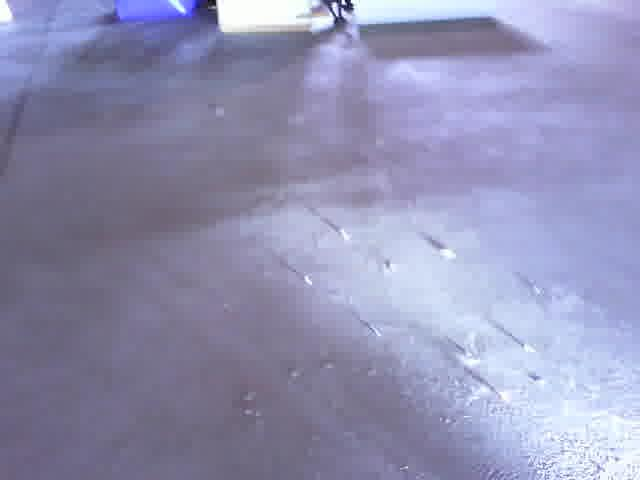coral: (353, 0, 497, 30)
